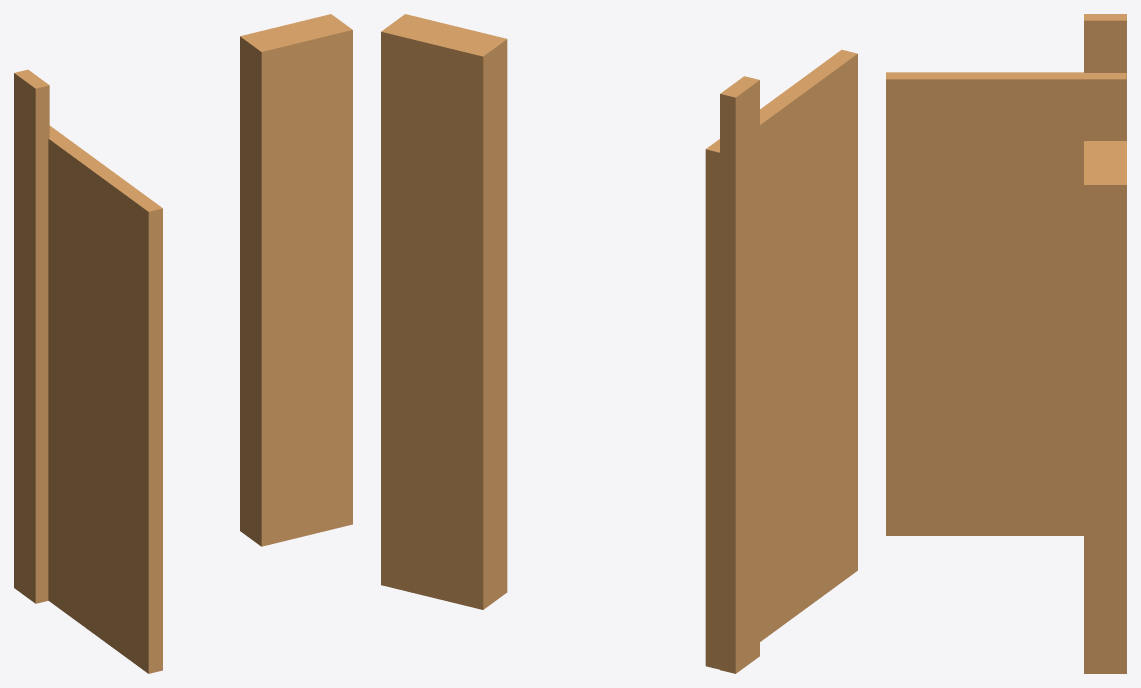
File: Indoor_Door.fbx
The picture shows the model from 3 angles, left to right: view 1: azimuth 30°, elevation 25°; view 2: azimuth 150°, elevation 25°; view 3: azimuth 270°, elevation 25°; orthographic projection. The views are drawn at different scales.
Visible parts, largest first — view 1: Wall, Door___1_, Wall_1; view 2: Wall, Door___1_, Wall_1; view 3: Door___1_, Wall, Wall_1.
Boxes of the visible parts, x1,y1,x2,y2 form: Wall: (240,14,352,546); Door___1_: (48,125,162,673); Wall_1: (14,69,49,603); Wall: (381,14,507,609); Door___1_: (705,49,857,669); Wall_1: (720,76,759,673); Door___1_: (886,72,1126,535); Wall: (1084,141,1126,673); Wall_1: (1084,14,1126,140).
Bounding box in the file's own units: 162 × 252 × 108.
